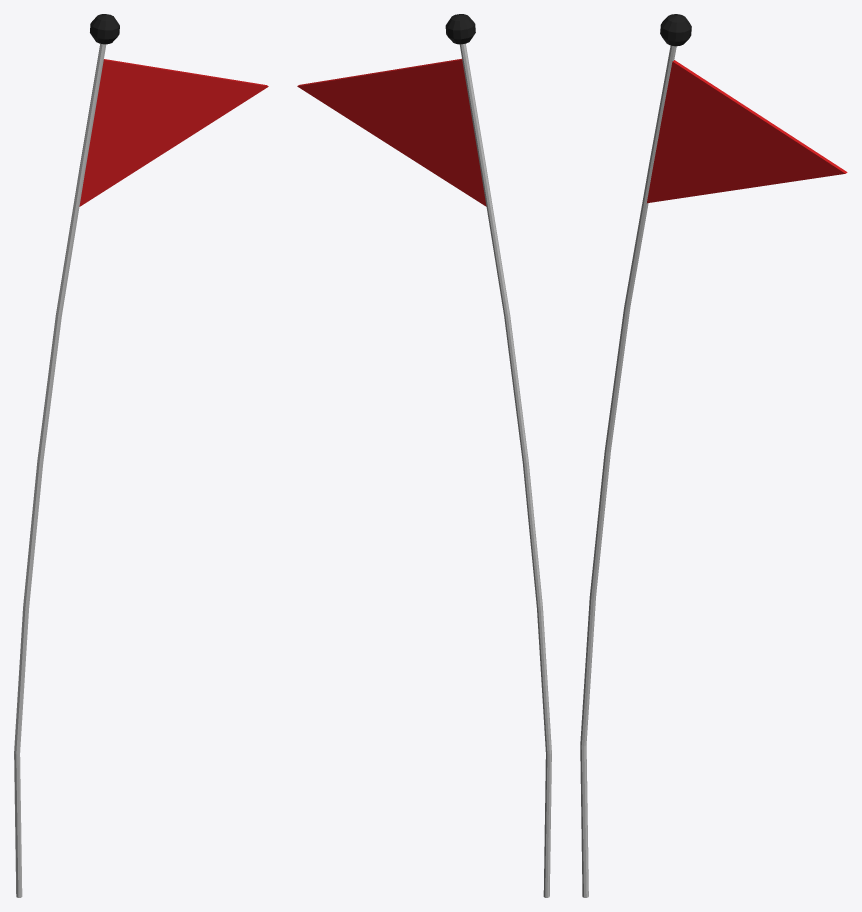
File: Flag.fbx
The picture shows the model from 3 angles, left to right: view 1: azimuth 30°, elevation 25°; view 2: azimuth 150°, elevation 25°; view 3: azimuth 330°, elevation 25°; orthographic projection. The views are drawn at different scales.
Visible parts, largest first — view 1: Flag.003; view 2: Flag.003; view 3: Flag.003.
Part boxes in pixels (bbox=[...]): Flag.003: bbox=[14, 14, 268, 897]; Flag.003: bbox=[297, 14, 551, 897]; Flag.003: bbox=[580, 14, 847, 897].
Bounding box in the file's own units: 46.35 × 150 × 4.7.
